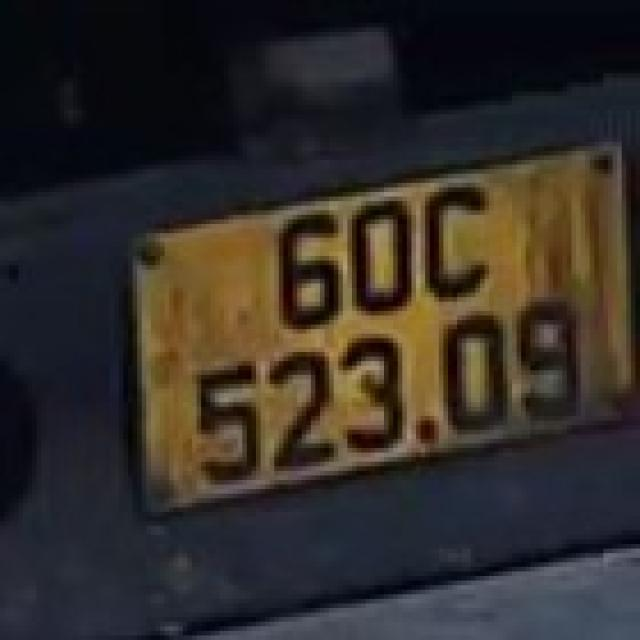0: (439, 309, 509, 432), (353, 198, 411, 316)
2: (267, 350, 335, 472)
3: (338, 332, 408, 454)
5: (196, 363, 262, 483)
6: (280, 212, 342, 331)
9: (519, 292, 584, 424)
C: (423, 184, 488, 301)
